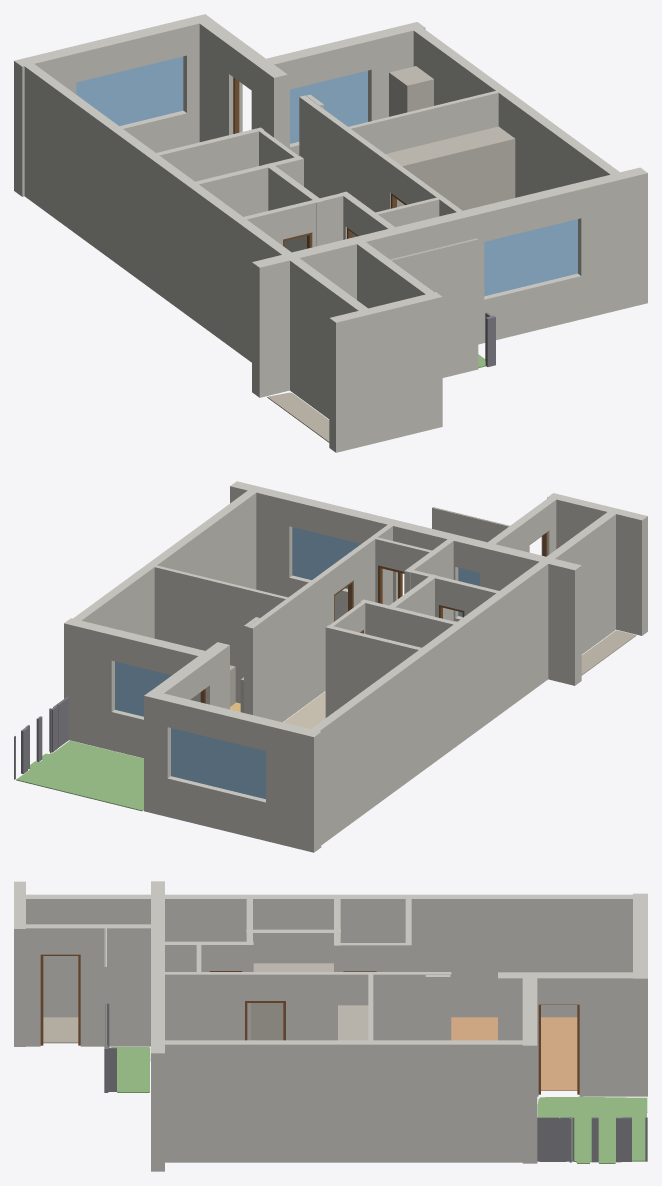
The picture shows the model from 3 angles, top to bottom: view 1: azimuth 30°, elevation 25°; view 2: azimuth 150°, elevation 25°; view 3: azimuth 270°, elevation 25°; orthographic projection. The views are drawn at different scales.
Parts seen in each view (by area): view 1: walls, furniture_1_closet, window_2, window_4, window_0, furniture_0_closet, floor_11_Storage; view 2: walls, floor_9_Outdoor, window_4, window_2, window_0, railings, floor_11_Storage, floor_2_Entry; view 3: walls, floor_9_Outdoor, floor_0_Living_Room, railings, furniture_2_closet, floor_10_Outdoor, furniture_1_closet, floor_8_Storage, door_10, door_3.
Part boxes in pixels (left/top/right/bottom): walls: left=14, top=14, right=647, bottom=452; furniture_1_closet: left=385, top=126, right=515, bottom=210; window_2: left=484, top=219, right=577, bottom=296; window_4: left=76, top=56, right=183, bottom=125; window_0: left=290, top=70, right=367, bottom=143; furniture_0_closet: left=389, top=66, right=433, bottom=116; floor_11_Storage: left=267, top=392, right=329, bottom=442; walls: left=64, top=481, right=647, bottom=852; floor_9_Outdoor: left=16, top=740, right=143, bottom=811; window_4: left=171, top=728, right=265, bottom=799; window_2: left=292, top=527, right=360, bottom=588; window_0: left=115, top=661, right=171, bottom=716; railings: left=14, top=697, right=68, bottom=779; floor_11_Storage: left=581, top=630, right=636, bottom=675; floor_2_Entry: left=283, top=691, right=325, bottom=729; walls: left=14, top=881, right=647, bottom=1171; floor_9_Outdoor: left=537, top=1096, right=647, bottom=1163; floor_0_Living_Room: left=451, top=1017, right=577, bottom=1090; railings: left=104, top=1003, right=647, bottom=1162; furniture_2_closet: left=251, top=963, right=333, bottom=1040; floor_10_Outdoor: left=111, top=1047, right=150, bottom=1092; furniture_1_closet: left=338, top=1005, right=368, bottom=1040; floor_8_Storage: left=43, top=1017, right=78, bottom=1043; door_10: left=40, top=954, right=80, bottom=1045; door_3: left=538, top=1004, right=579, bottom=1094.
Bounding box in the file's own units: 8.43 × 2.72 × 13.13.
